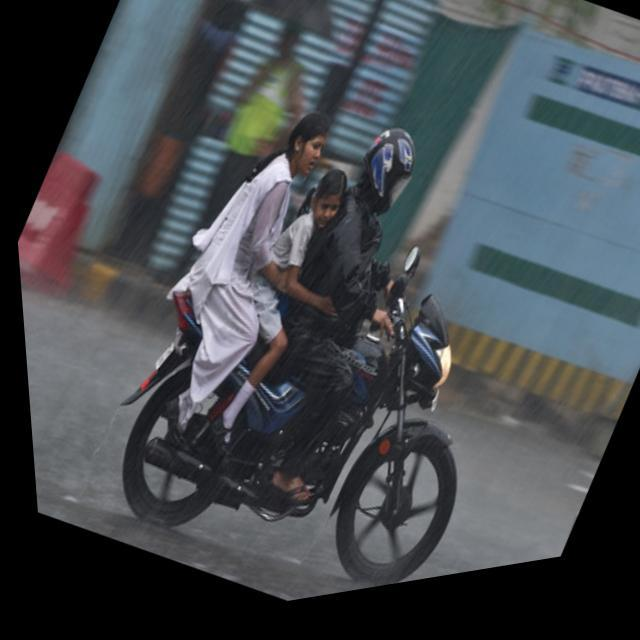Helmet: (353, 122, 418, 217)
Nonhelmet: (278, 103, 336, 177), (307, 164, 355, 238)
